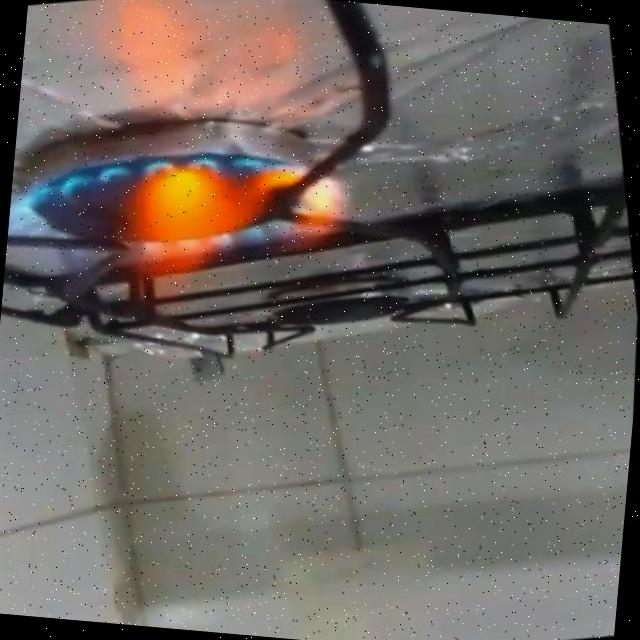fire: (0, 105, 385, 380)
